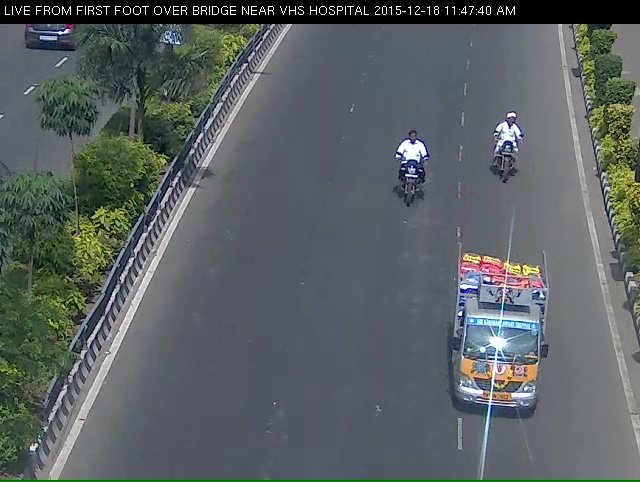Car: (439, 249, 554, 434)
Person: (385, 135, 437, 218), (493, 117, 521, 187)
